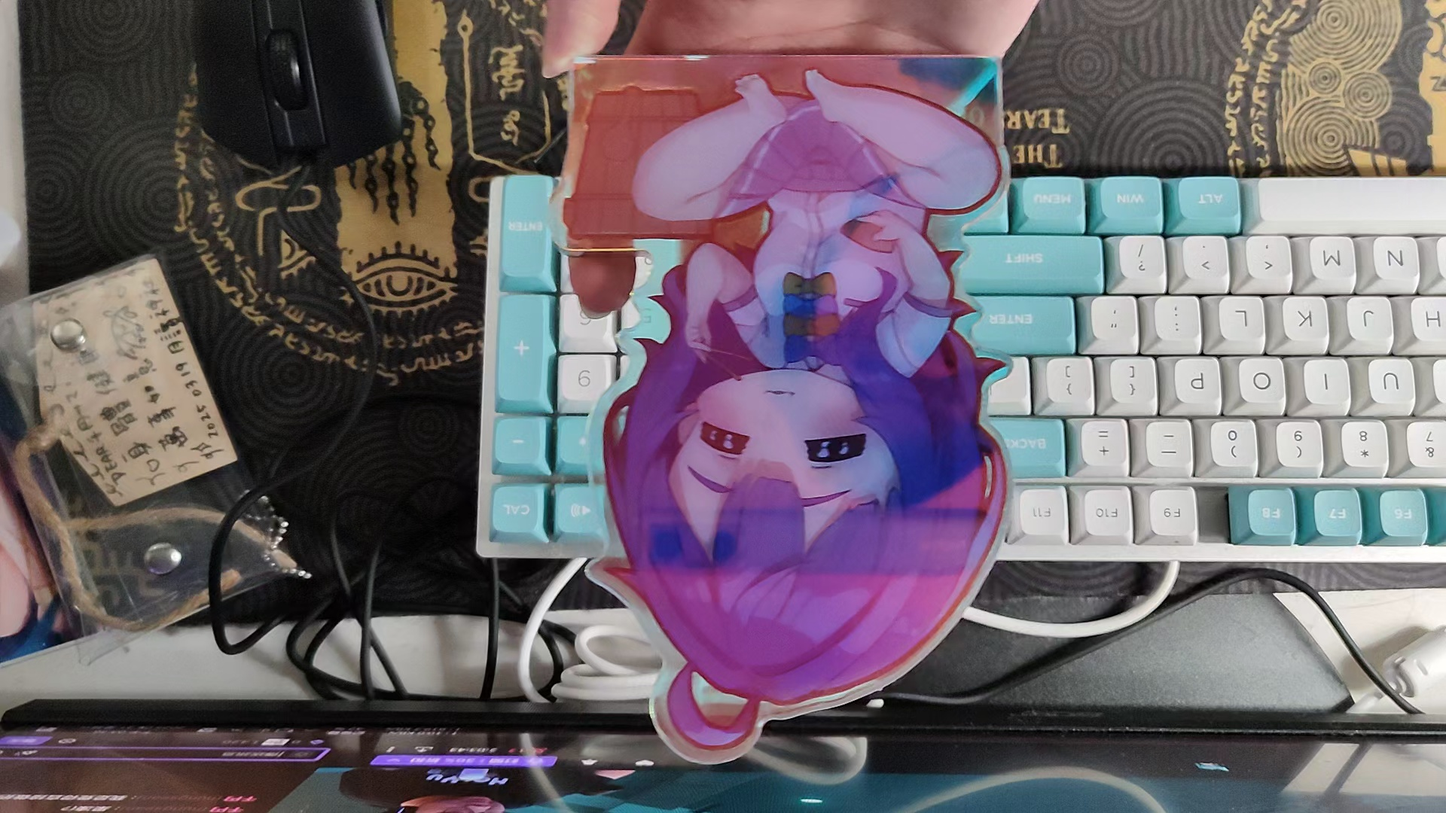Yanami-anna: (546, 52, 1020, 762)
